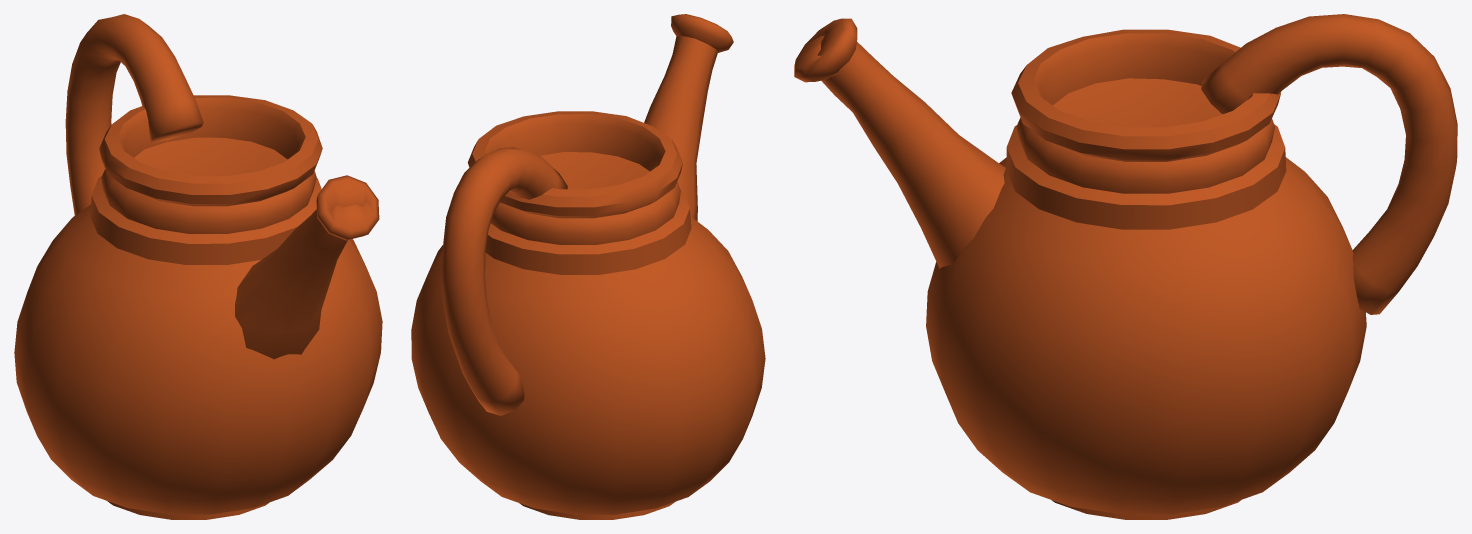
Rendered from watering-pot-charming.glb.
3 renders of one model, left to right at view 1: azimuth 30°, elevation 25°; view 2: azimuth 150°, elevation 25°; view 3: azimuth 270°, elevation 25°, orthographic. The views are drawn at different scales.
Parts seen in each view (by area): view 1: pot_body, handle, spout; view 2: pot_body, handle, spout; view 3: pot_body, handle, spout.
Part boxes in pixels (left/top/right/bottom): pot_body: left=14, top=95, right=382, bottom=519; handle: left=65, top=14, right=203, bottom=215; spout: left=235, top=175, right=379, bottom=359; pot_body: left=411, top=111, right=765, bottom=519; handle: left=440, top=147, right=567, bottom=415; spout: left=644, top=14, right=733, bottom=221; pot_body: left=926, top=29, right=1366, bottom=519; handle: left=1201, top=14, right=1457, bottom=314; spout: left=794, top=18, right=1005, bottom=268.
Bounding box in the file's own units: 0.263 × 0.3122 × 0.3996.
